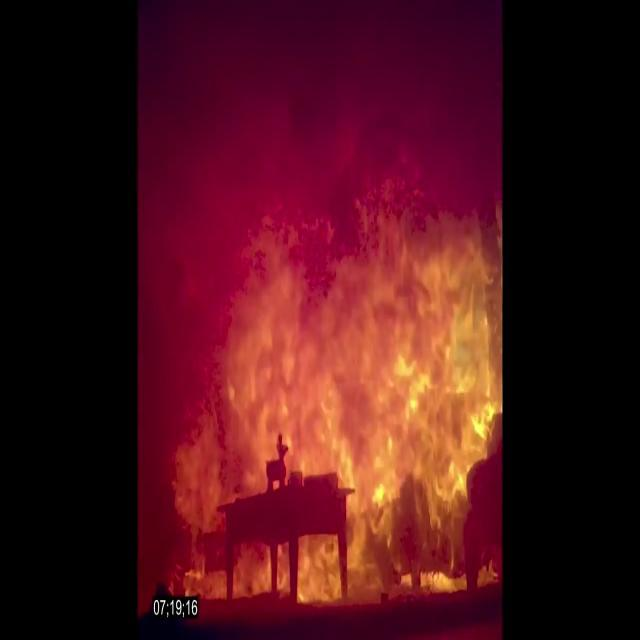Fire: (159, 156, 499, 612)
